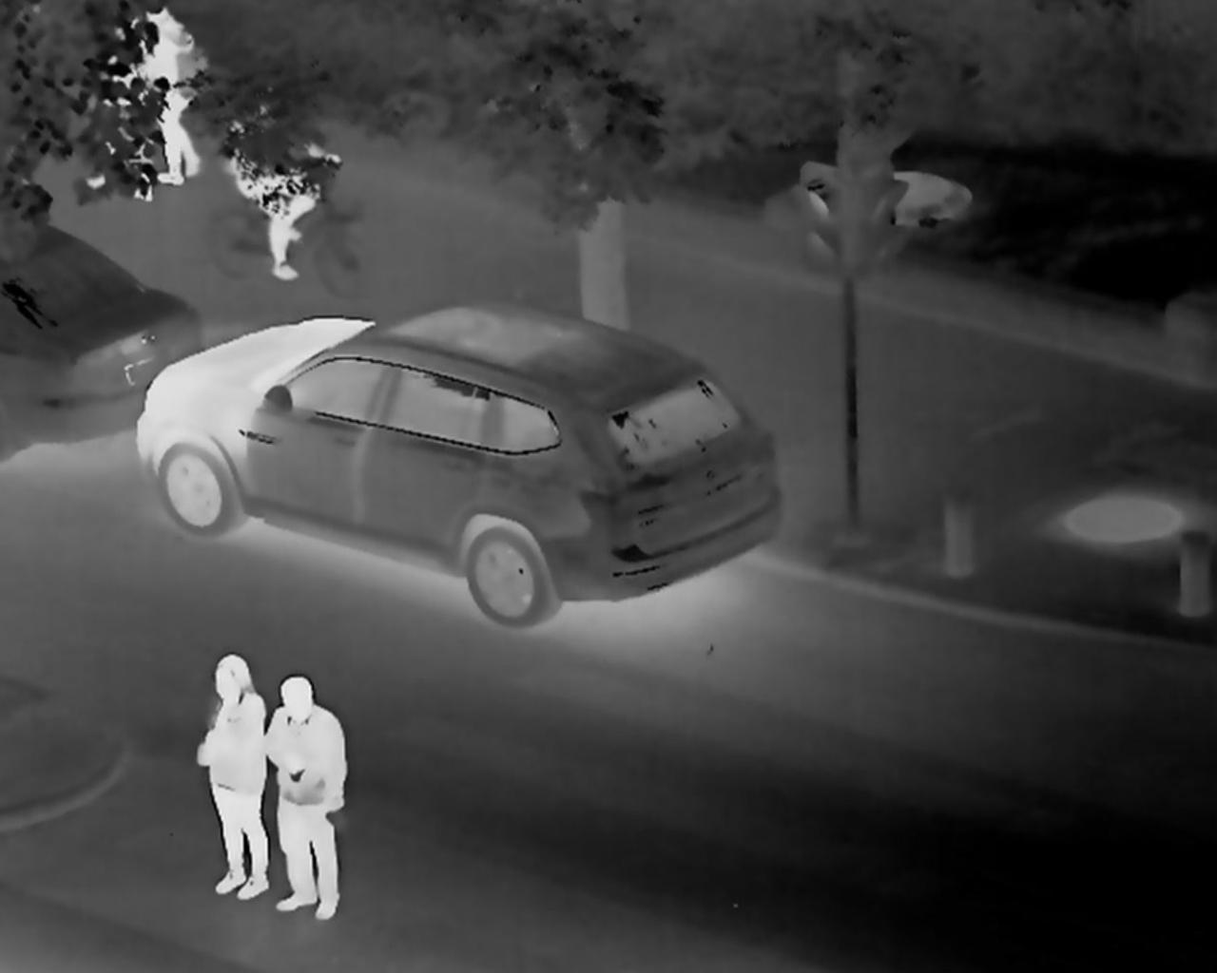person: (227, 75, 339, 285), (262, 667, 347, 925), (195, 648, 271, 903), (134, 5, 208, 185)
